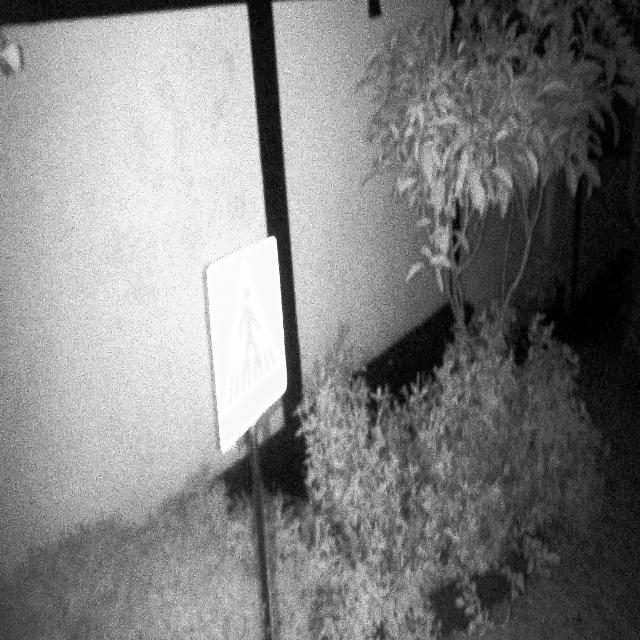Sign: (205, 234, 289, 456)
